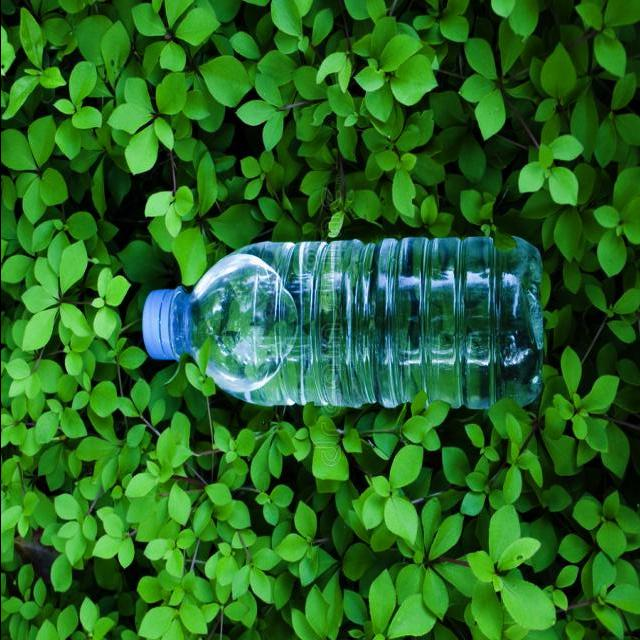cap: (140, 282, 185, 364)
not-crumbled: (130, 220, 556, 420)
